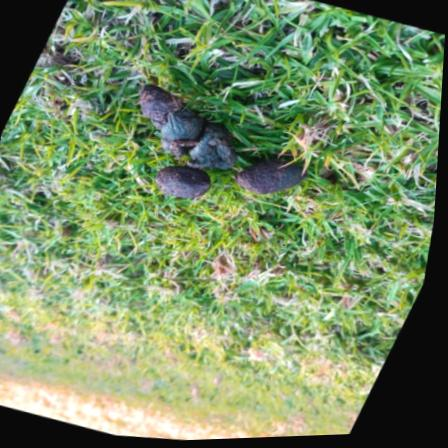dog-poop: (122, 82, 243, 180), (239, 152, 306, 208), (166, 170, 216, 207)
